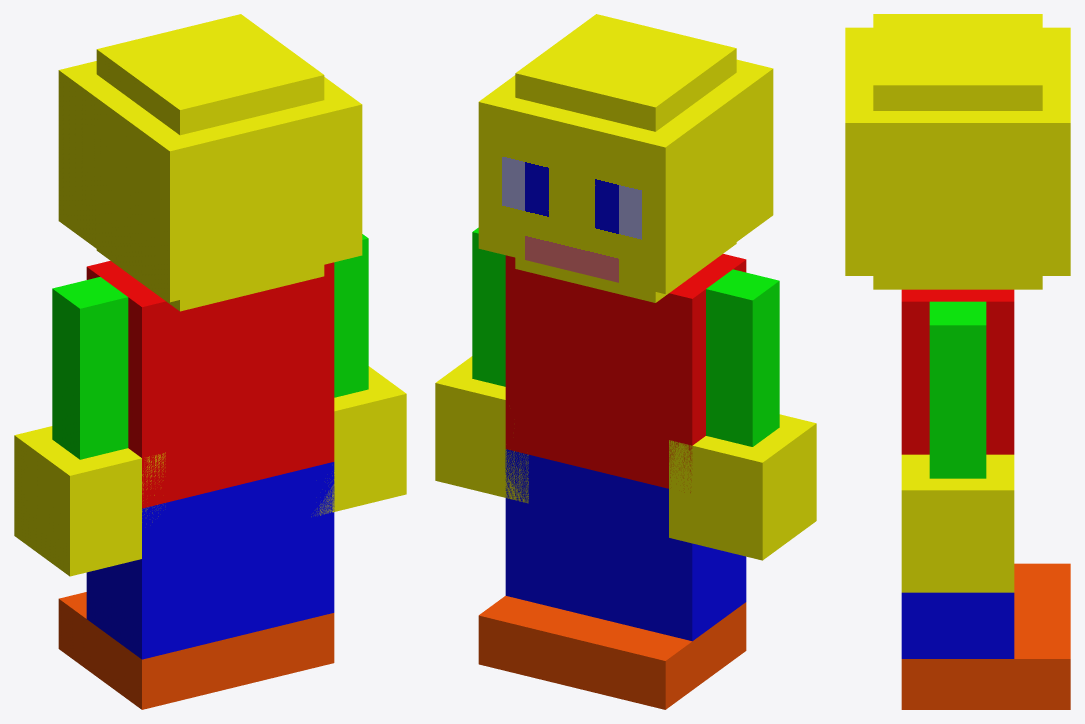
3 renders of one model, left to right at view 1: azimuth 30°, elevation 25°; view 2: azimuth 150°, elevation 25°; view 3: azimuth 270°, elevation 25°, orthographic. The views are drawn at different scales.
Parts seen in each view (by area): view 1: Head, Body, LeftLeg, LeftArm, RightLeg, RightArm; view 2: Head, Body, LeftArm, LeftLeg, RightLeg, RightArm; view 3: Head, RightArm, RightLeg, Body, LeftLeg.
Boxes of the visible parts, x1,y1,x2,y2 form: Head: [58, 14, 362, 311]; Body: [86, 261, 334, 508]; LeftLeg: [58, 485, 238, 709]; LeftArm: [14, 277, 165, 576]; RightLeg: [238, 462, 334, 686]; RightArm: [311, 234, 406, 516]; Head: [478, 14, 773, 302]; Body: [505, 254, 746, 492]; LeftArm: [669, 269, 816, 560]; LeftLeg: [572, 472, 746, 709]; RightLeg: [478, 449, 598, 686]; RightArm: [435, 227, 528, 503]; Head: [845, 14, 1070, 289]; RightArm: [901, 301, 1014, 592]; RightLeg: [901, 592, 1070, 709]; Body: [901, 289, 1014, 454]; LeftLeg: [1014, 563, 1070, 611].
Size of the model in its own units: 0.875 by 1.5 by 0.5.
1 material, 1 textured.
